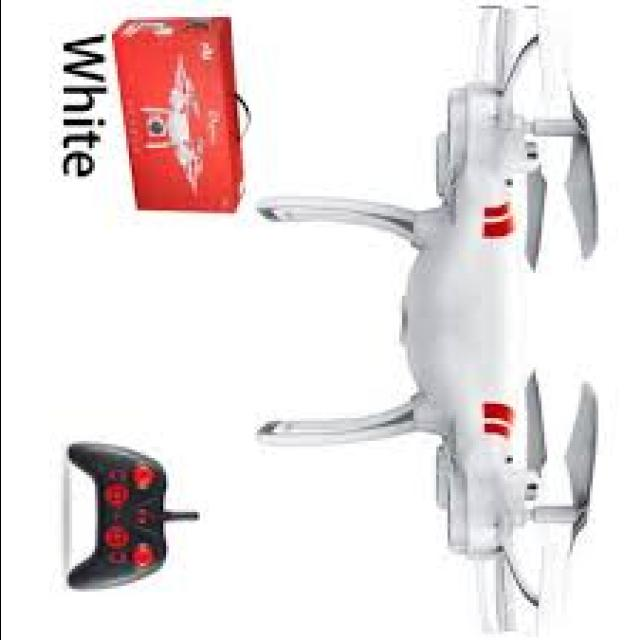drone: (239, 0, 616, 640)
